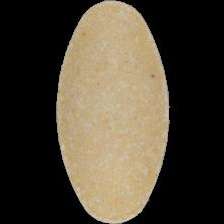0904-5810: (0, 0, 224, 224)
